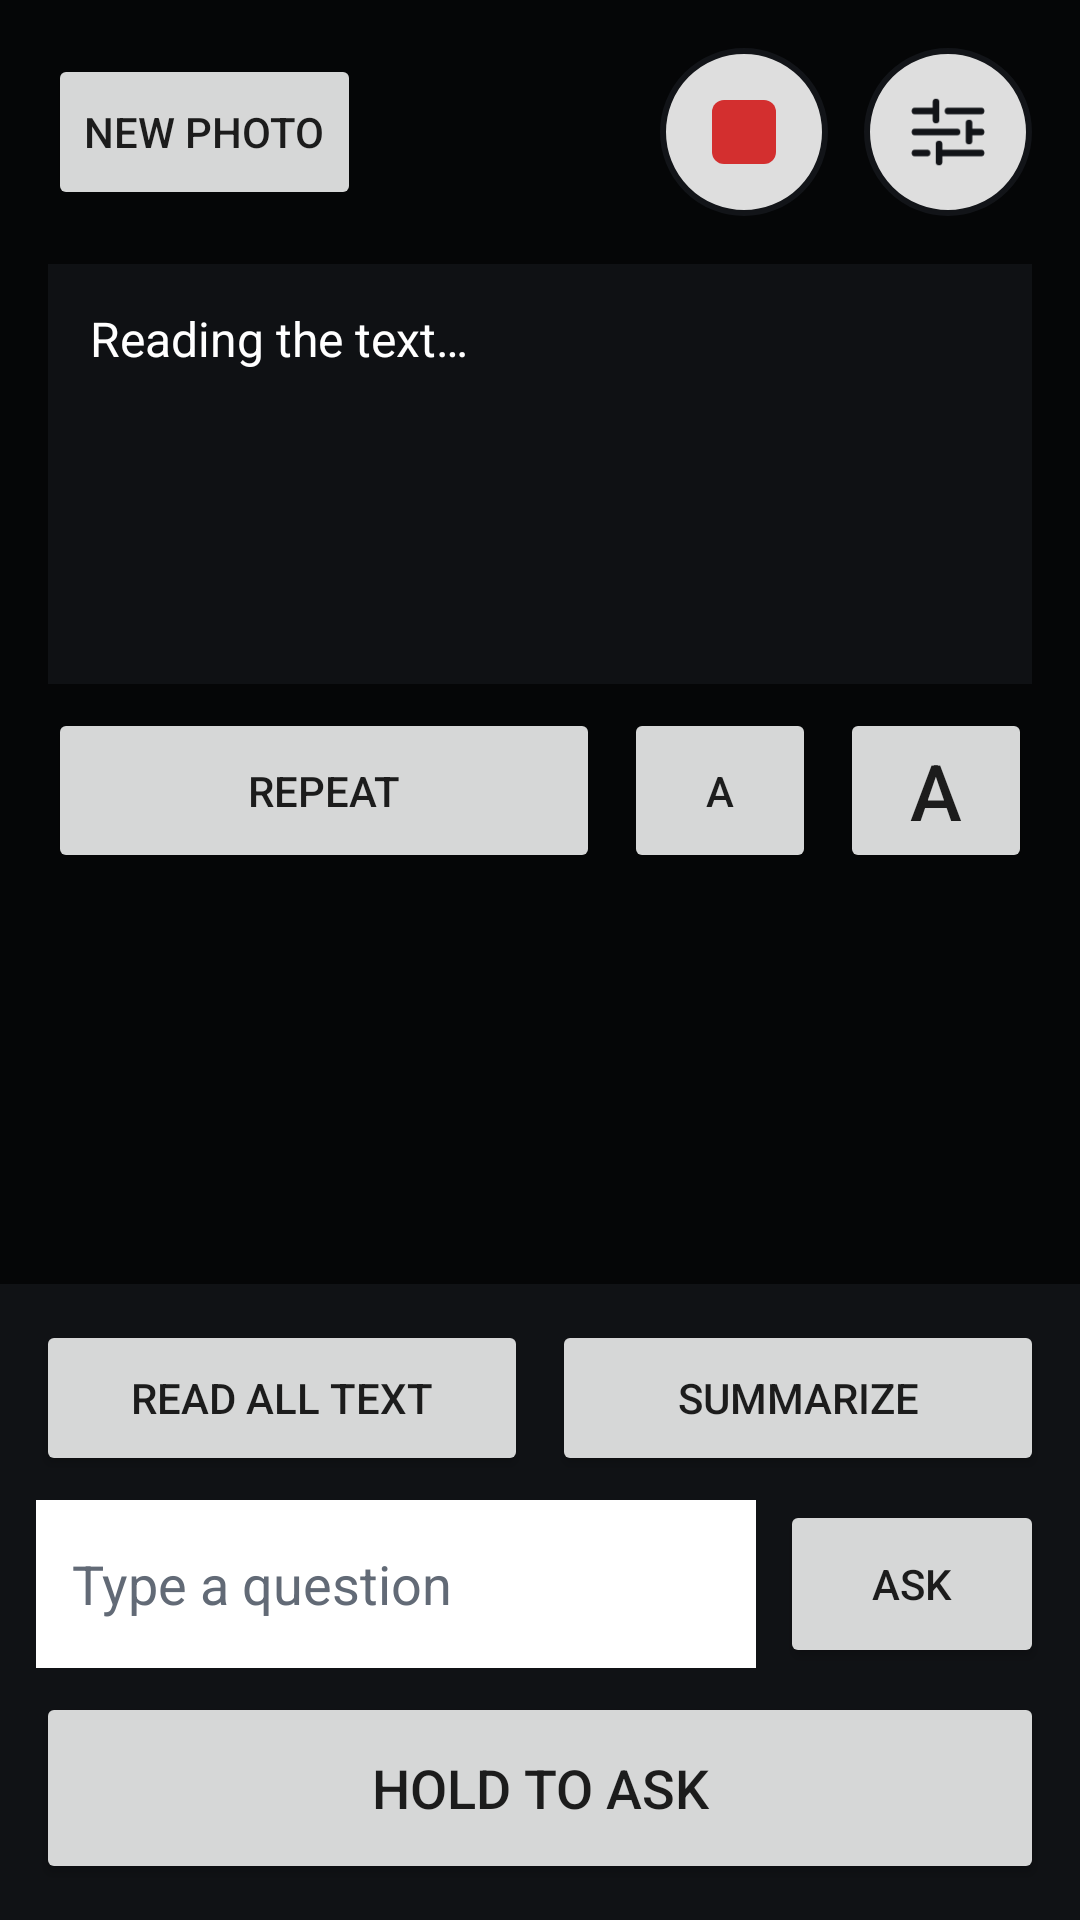

Named icons in this screenshot (1080×1920) and their bounding boxes, [x1,y1,x2,y2]:
Processing settings: [870,54,1026,210]
Stop speaking: [666,54,822,210]
